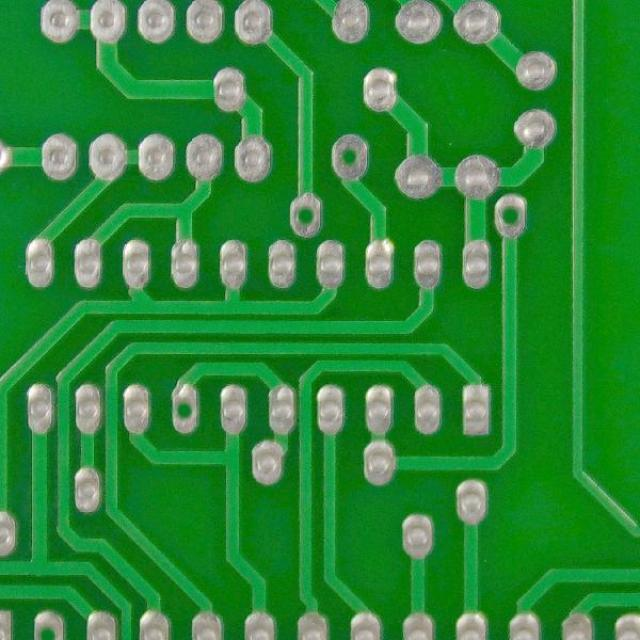Missing_Hole: (326, 132, 374, 182), (489, 191, 530, 240), (166, 382, 204, 433), (285, 190, 325, 238), (29, 608, 69, 639)
